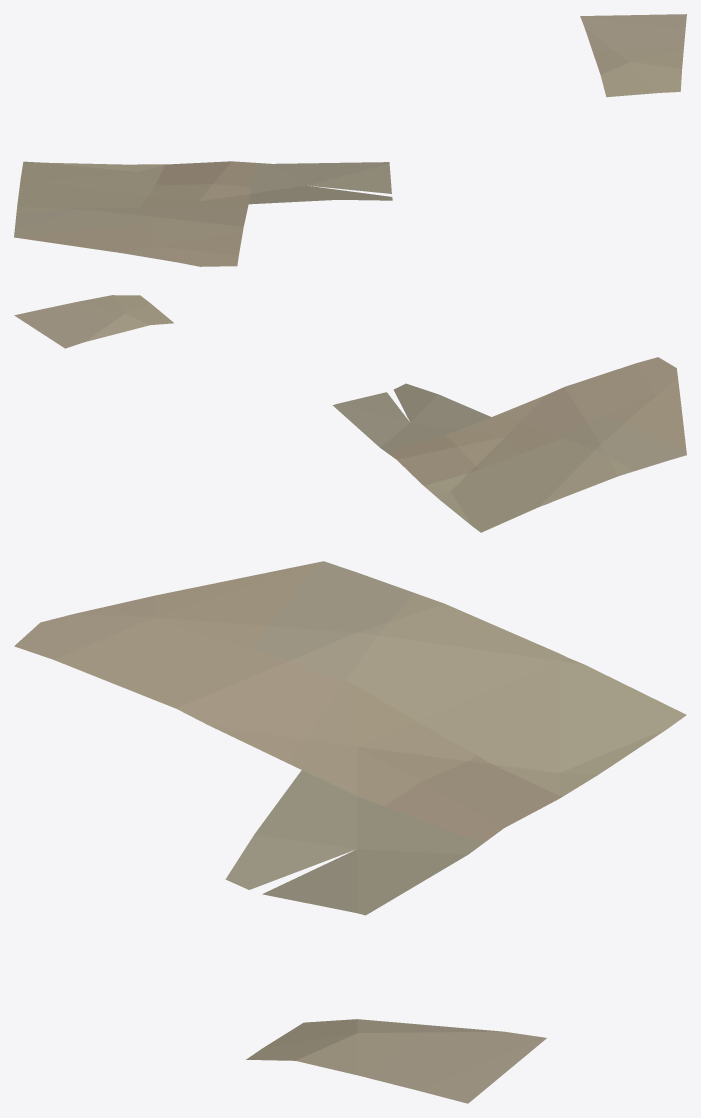
File: farm_10_13_soil.glb
The picture shows the model from 3 angles, top to bottom: view 1: azimuth 30°, elevation 25°; view 2: azimuth 150°, elevation 25°; view 3: azimuth 270°, elevation 25°; orthographic projection. The views are drawn at different scales.
Parts seen in each view (by area): view 1: geometry_0; view 2: geometry_0; view 3: geometry_0.
Part boxes in pixels (box(x1,y1,x2,y2)): geometry_0: box(14, 14, 686, 266); geometry_0: box(14, 295, 686, 532); geometry_0: box(14, 561, 686, 1103).
Bounding box in the file's own units: 532 × 37.29 × 266.
